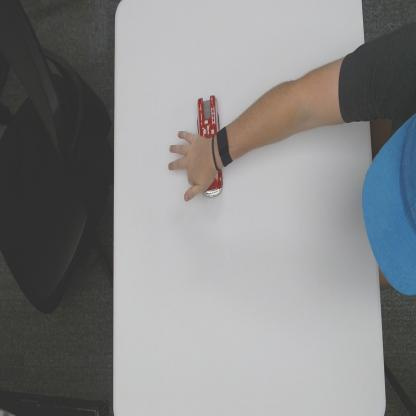Arm: (234, 35, 370, 160)
Firetruck: (196, 94, 223, 198)
Hand: (167, 131, 214, 202)
